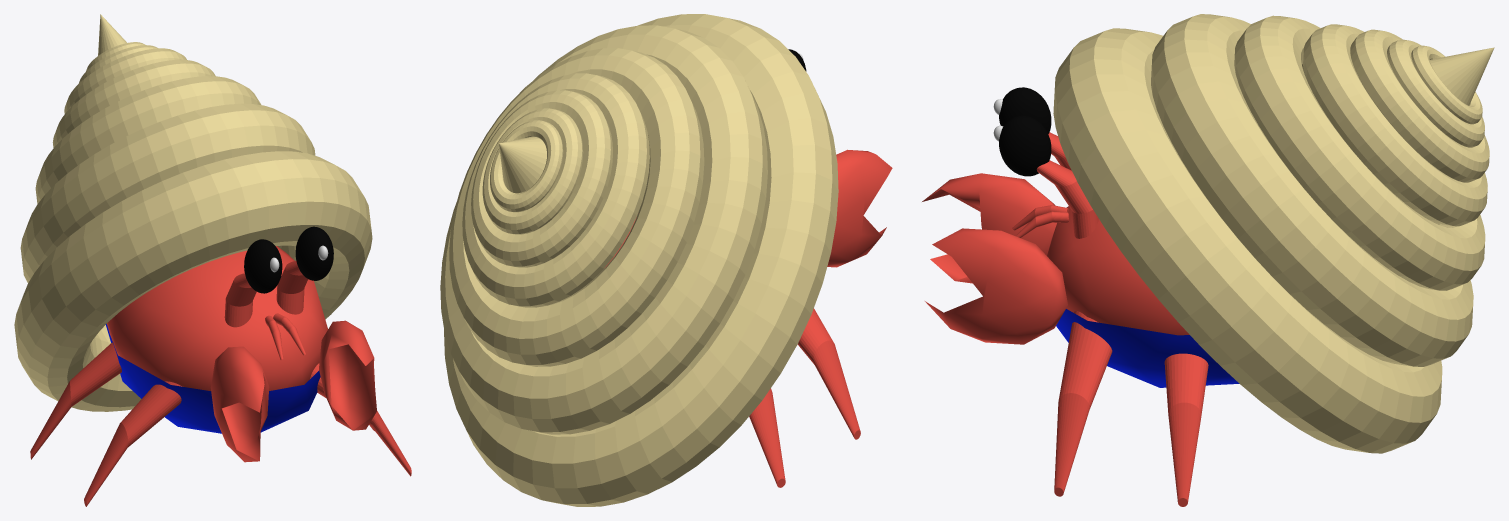
Rendered from HermitCrab(Pants).fbx.
3 renders of one model, left to right at view 1: azimuth 30°, elevation 25°; view 2: azimuth 150°, elevation 25°; view 3: azimuth 270°, elevation 25°, orthographic. The views are drawn at different scales.
Parts seen in each view (by area): view 1: Cone, Icosphere, Icosphere.001, Icosphere.002, Icosphere.003, Cylinder.002, Cylinder.003, Sphere, Sphere.001, Cylinder.004, Cylinder.005, Cylinder; view 2: Cone, Icosphere.001, Cylinder.002, Cylinder.003; view 3: Cone, Icosphere.002, Icosphere, Icosphere.001, Cylinder, Icosphere.003, Cylinder.001, Sphere.001, Cylinder.005, Sphere.
Part boxes in pixels (x1,y1,x2,y2): Cone: [14, 14, 372, 411]; Icosphere: [107, 246, 327, 390]; Icosphere.001: [210, 346, 269, 462]; Icosphere.002: [319, 320, 376, 430]; Icosphere.003: [106, 324, 320, 433]; Cylinder.002: [84, 381, 182, 506]; Cylinder.003: [30, 342, 121, 459]; Sphere: [244, 239, 282, 293]; Sphere.001: [295, 226, 333, 280]; Cylinder.004: [224, 273, 256, 327]; Cylinder.005: [276, 261, 308, 314]; Cylinder: [310, 363, 411, 476]; Cone: [440, 14, 838, 506]; Icosphere.001: [827, 149, 892, 267]; Cylinder.002: [797, 308, 860, 439]; Cylinder.003: [749, 388, 785, 487]; Cone: [1053, 14, 1494, 453]; Icosphere.002: [925, 228, 1067, 344]; Icosphere: [1046, 206, 1189, 335]; Icosphere.001: [922, 173, 1056, 283]; Cylinder: [1054, 311, 1112, 496]; Icosphere.003: [1056, 309, 1239, 387]; Cylinder.001: [1164, 353, 1208, 506]; Sphere.001: [999, 115, 1051, 176]; Cylinder.005: [1036, 160, 1098, 238]; Sphere: [999, 87, 1051, 133].
Bounding box in the file's own units: 224 × 251 × 322.
